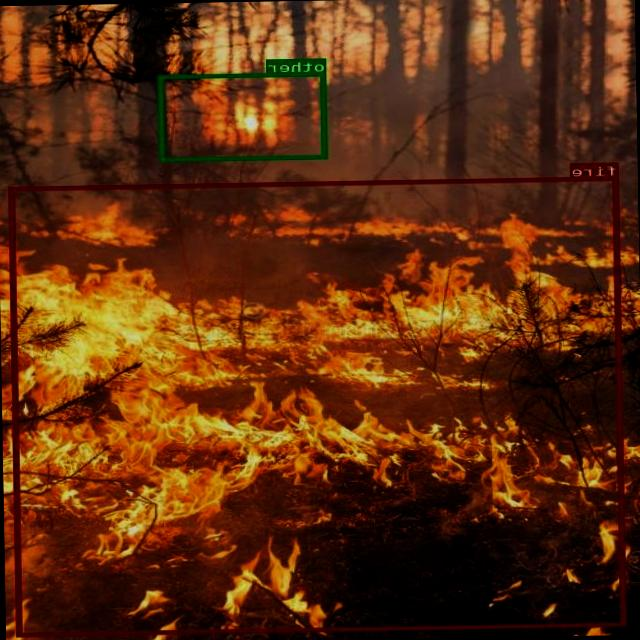fire: (10, 175, 628, 636)
